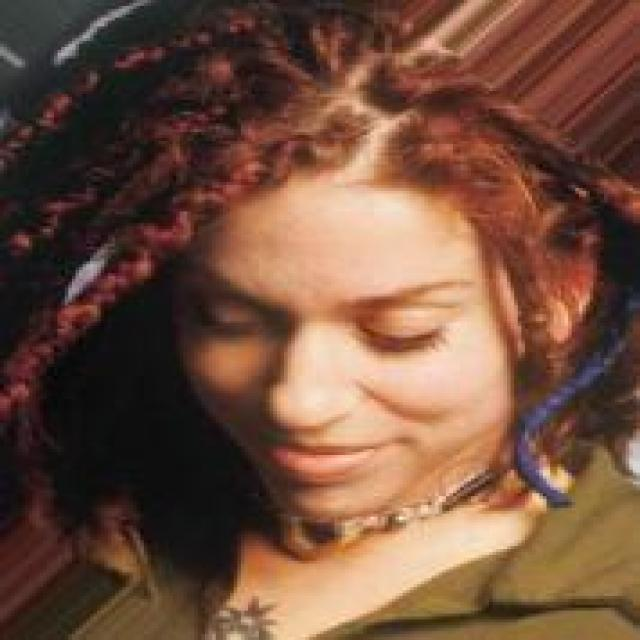nomask: (148, 156, 550, 546)
